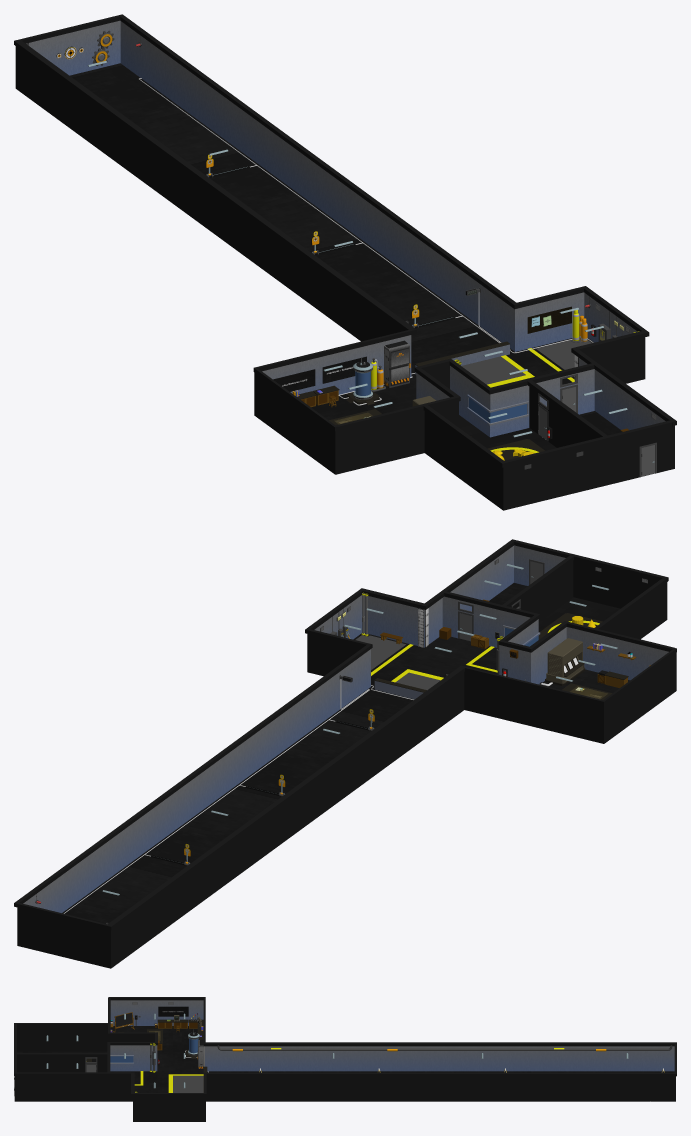
The model's file is LABLEVEL.fbx.
3 renders of one model, top to bottom at view 1: azimuth 30°, elevation 25°; view 2: azimuth 150°, elevation 25°; view 3: azimuth 270°, elevation 25°, orthographic. The views are drawn at different scales.
Parts seen in each view (by area): view 1: LAB, LAB_Walls, Lab_RimCap, FloorCautions, ShootingRange, SafeDoor, DropLights, MemoBoard; view 2: LAB, LAB_Walls, Lab_RimCap, FloorCautions, Monster_PC, ShootingRange, DropLights; view 3: LAB, LAB_Walls, Lab_RimCap, LongPipes, FloorCautions, CornerDesks, DirectionBoard, DropLights, Chalkboard.
Part boxes in pixels (left/top/right/bottom): LAB: left=29, top=20, right=665, bottom=476; LAB_Walls: left=15, top=46, right=674, bottom=510; Lab_RimCap: left=14, top=14, right=676, bottom=467; FloorCautions: left=461, top=339, right=591, bottom=387; ShootingRange: left=209, top=166, right=509, bottom=374; SafeDoor: left=388, top=346, right=410, bottom=387; DropLights: left=87, top=61, right=627, bottom=437; MemoBoard: left=527, top=306, right=571, bottom=333; LAB: left=23, top=545, right=668, bottom=923; LAB_Walls: left=17, top=582, right=676, bottom=968; Lab_RimCap: left=14, top=539, right=676, bottom=930; FloorCautions: left=355, top=635, right=497, bottom=690; Monster_PC: left=545, top=638, right=585, bottom=685; ShootingRange: left=151, top=678, right=426, bottom=865; DropLights: left=102, top=564, right=617, bottom=895; LAB: left=17, top=1000, right=674, bottom=1092; LAB_Walls: left=14, top=1076, right=675, bottom=1121; Lab_RimCap: left=14, top=997, right=676, bottom=1096; LongPipes: left=217, top=1045, right=672, bottom=1051; FloorCautions: left=134, top=1071, right=203, bottom=1092; CornerDesks: left=157, top=1019, right=203, bottom=1039; DirectionBoard: left=158, top=1006, right=188, bottom=1016; DropLights: left=46, top=1013, right=628, bottom=1088; Chalkboard: left=114, top=1012, right=133, bottom=1027.
Size of the model in its own units: 2888 by 398 by 8342.
43 materials, 17 textured.
